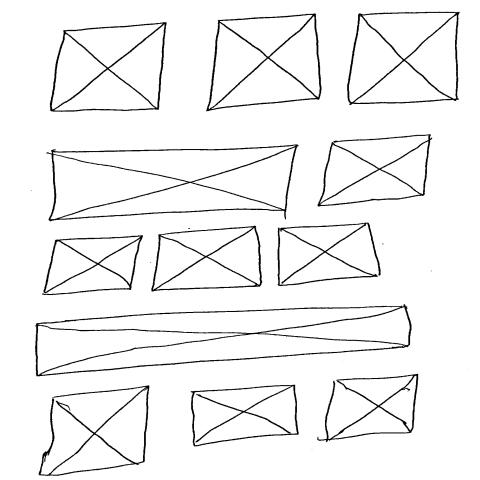Image: (36, 306, 413, 377), (49, 144, 300, 223), (207, 14, 323, 112), (49, 22, 169, 113), (347, 11, 460, 106), (39, 385, 151, 478), (316, 134, 433, 208), (150, 227, 264, 293), (191, 385, 300, 447), (277, 223, 382, 287), (325, 374, 421, 442), (42, 236, 144, 297)
